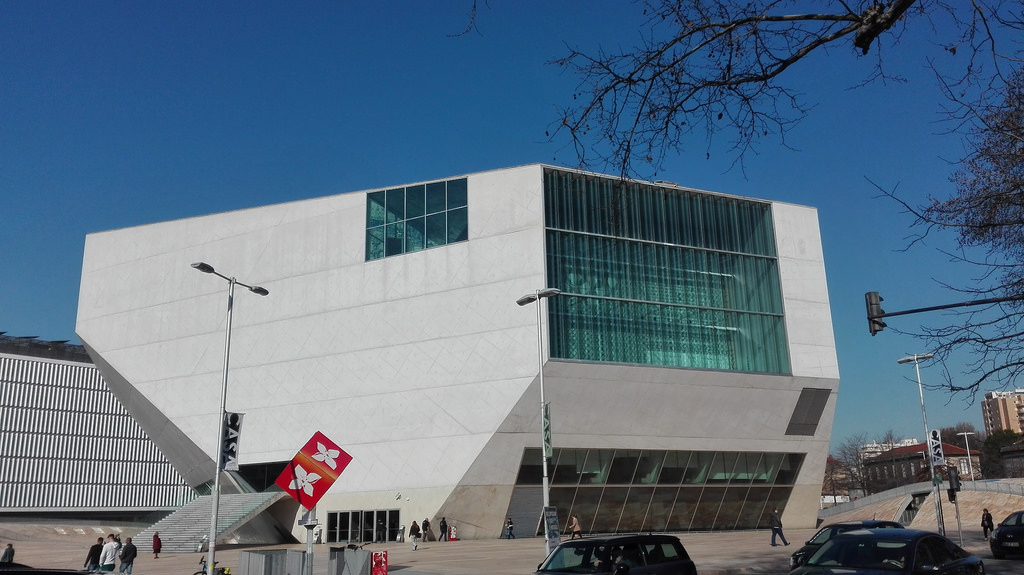musica: (74, 161, 842, 545)
